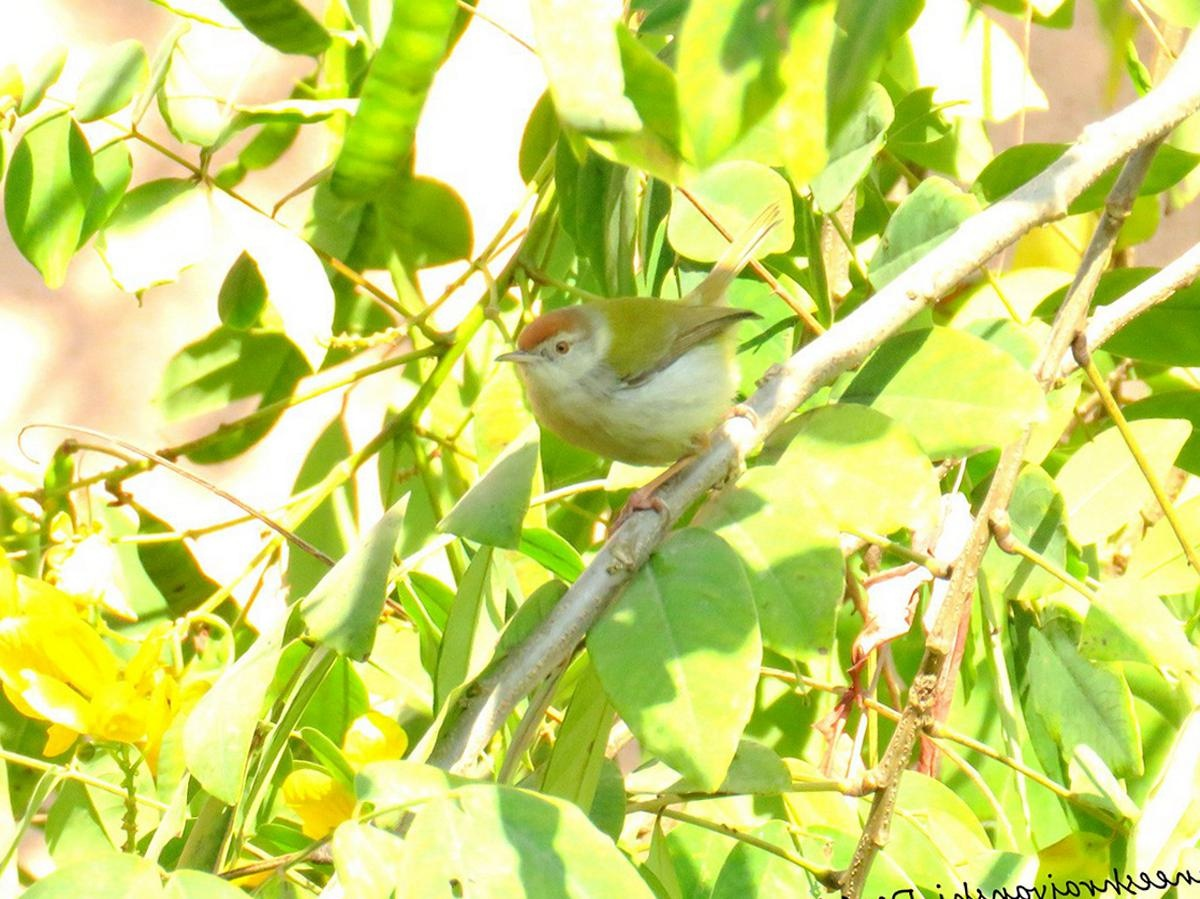tailorbird: (497, 291, 790, 493)
